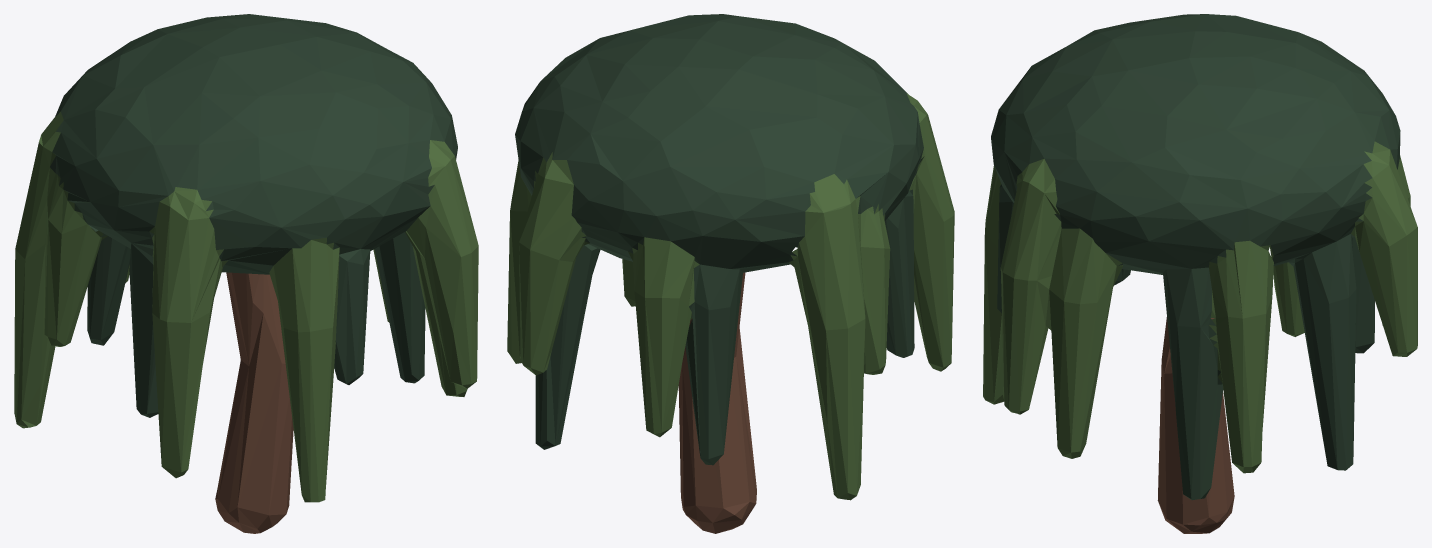
File: willow.glb
The picture shows the model from 3 angles, left to right: view 1: azimuth 30°, elevation 25°; view 2: azimuth 150°, elevation 25°; view 3: azimuth 270°, elevation 25°; orthographic projection.
Visible parts, largest first — view 1: willow; view 2: willow; view 3: willow.
Boxes of the visible parts, box(x1,y1,x2,y2) form: willow: box(14, 14, 478, 533); willow: box(507, 14, 954, 533); willow: box(983, 14, 1417, 533).
Size of the model in its own units: 3.99 by 4.95 by 4.02.
